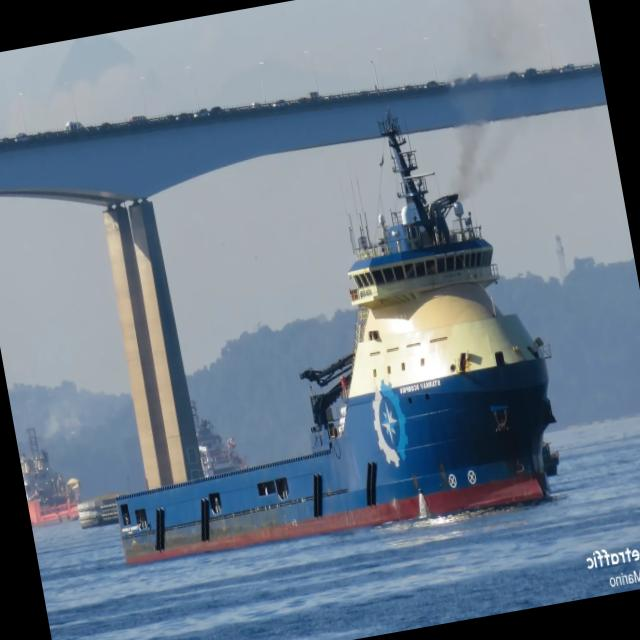Offshore: (116, 116, 558, 561)
